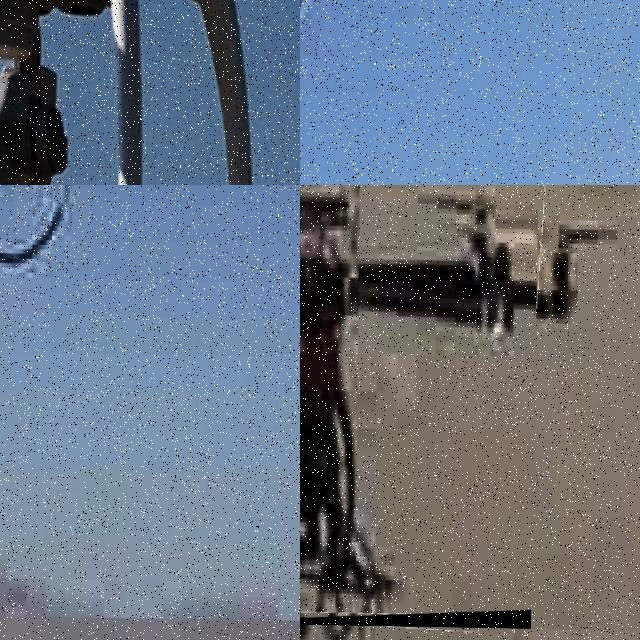0: (300, 185, 538, 628), (300, 0, 626, 185)
drone: (0, 0, 300, 185)
